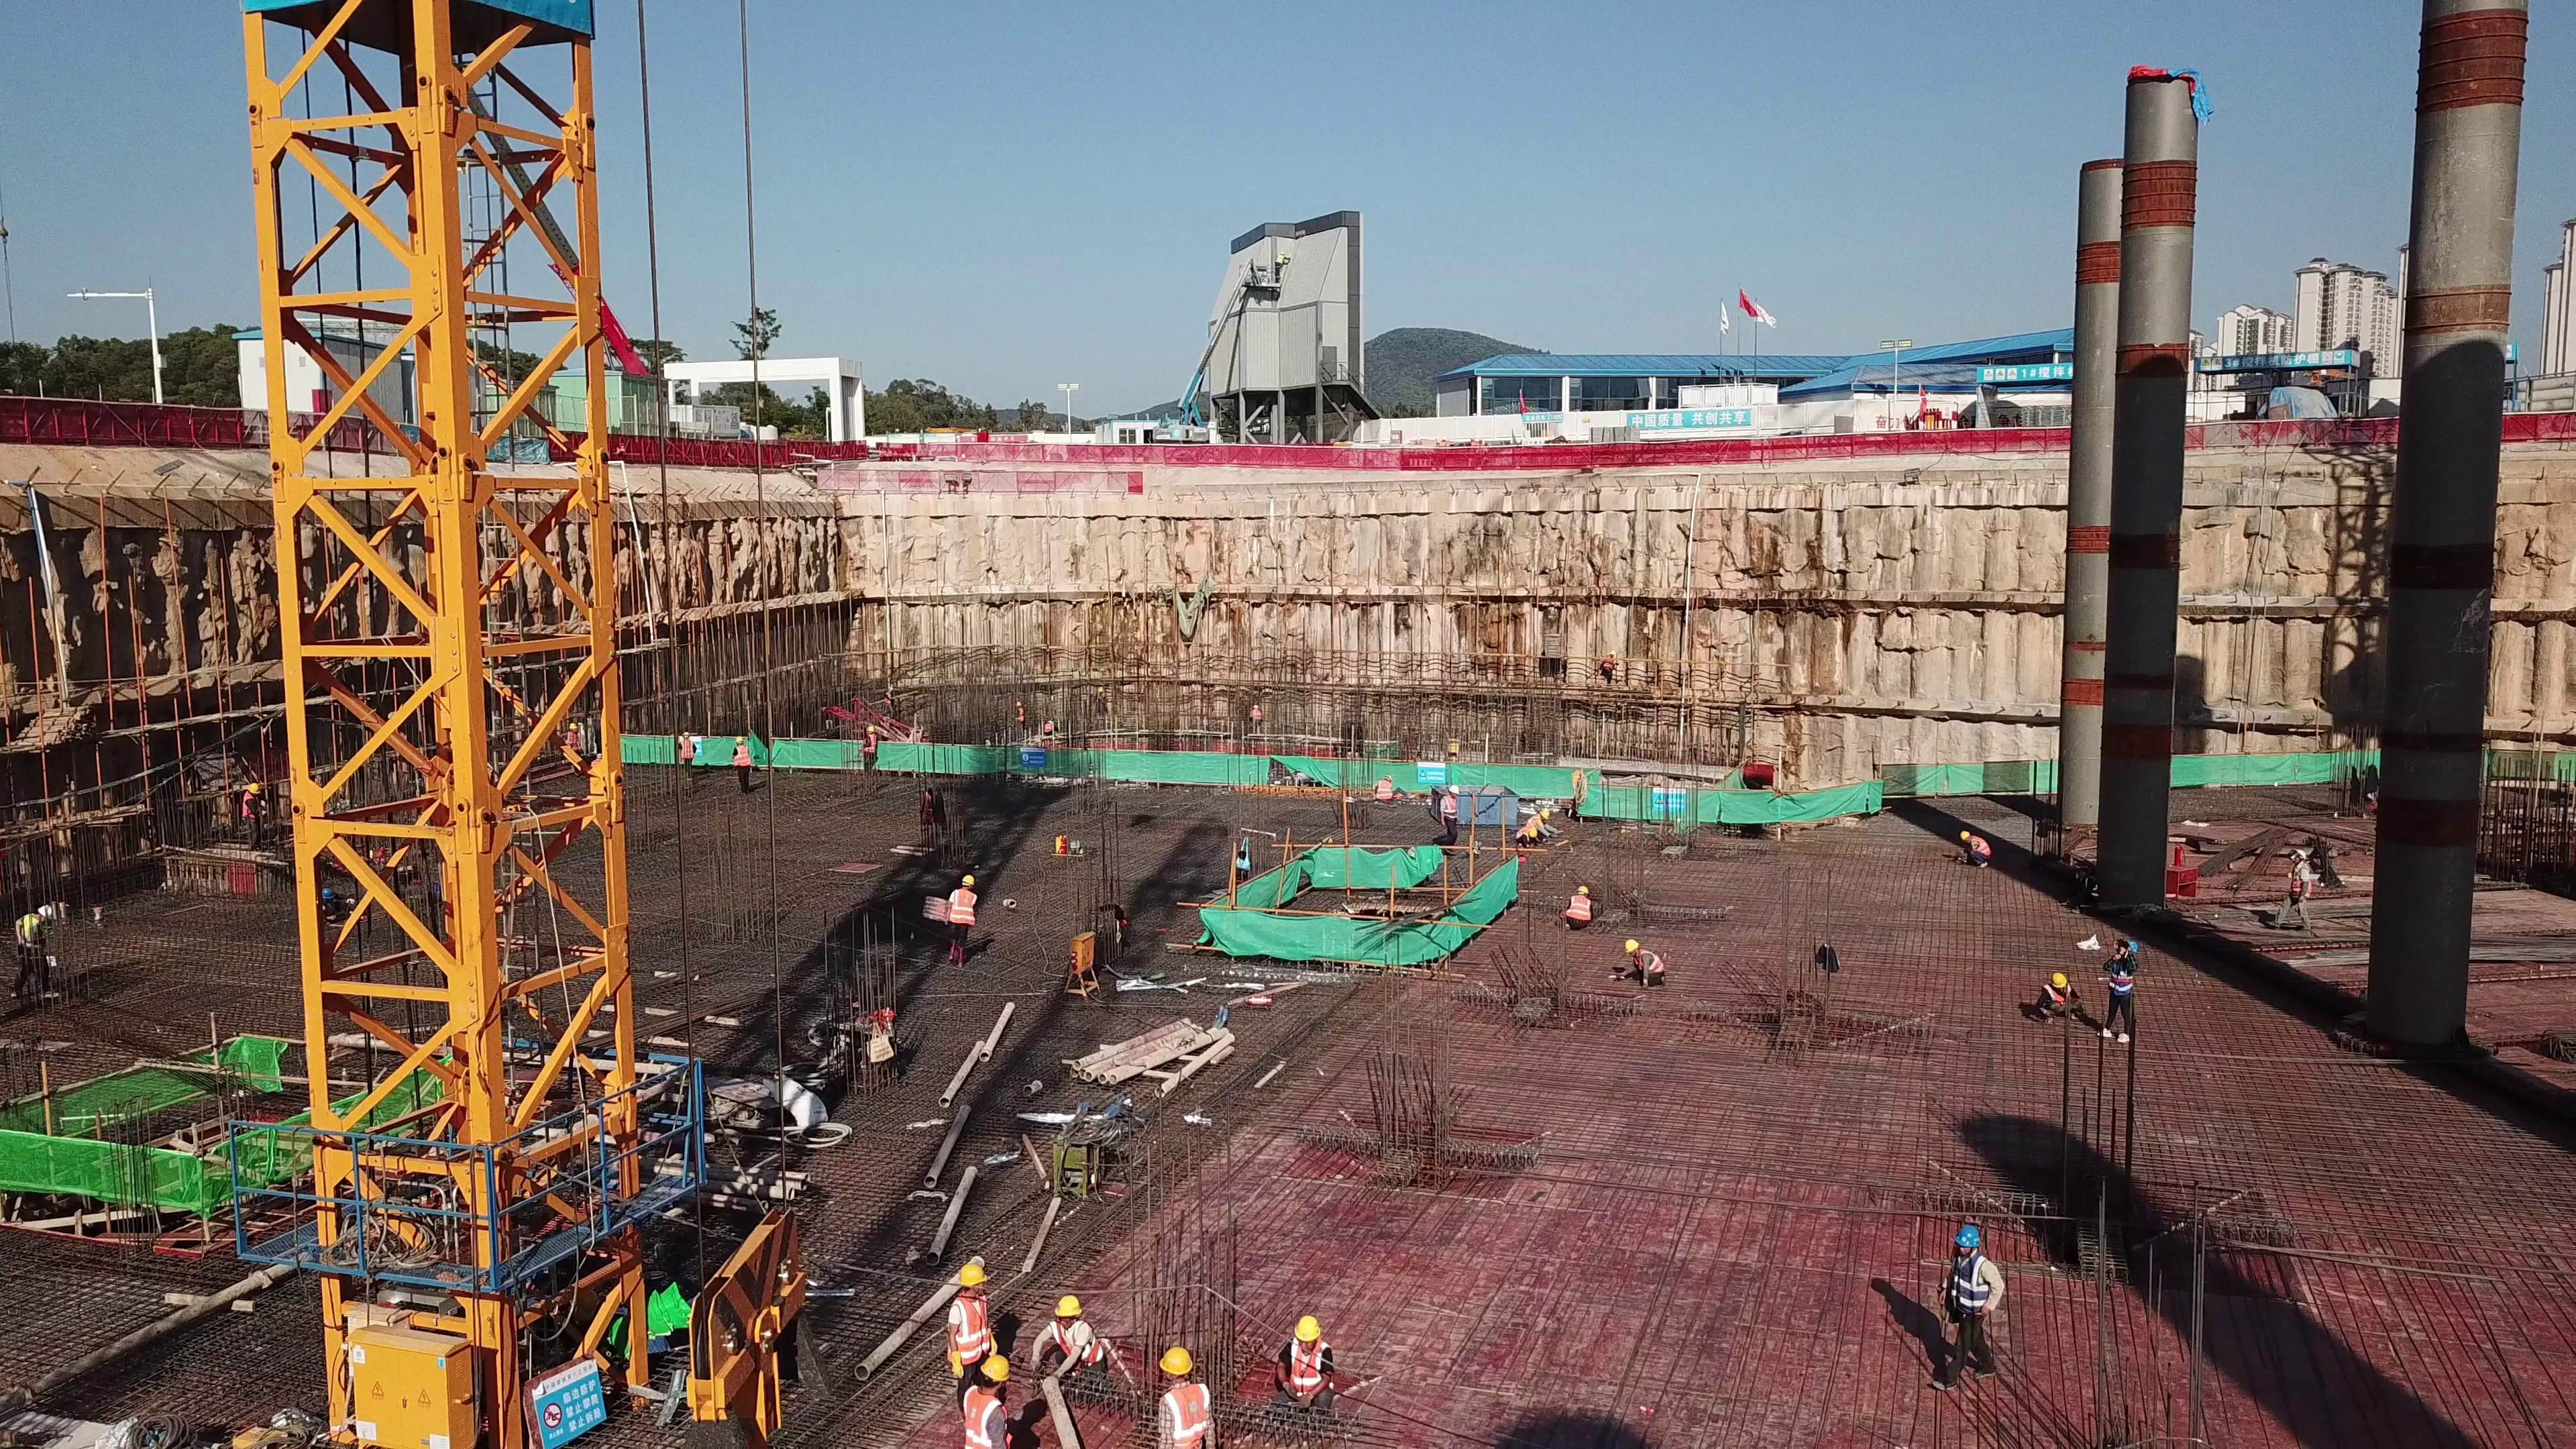brick: (1591, 424, 1644, 455)
ebox: (329, 1322, 478, 1449), (1067, 928, 1098, 1005)
fence: (24, 372, 254, 453), (1357, 437, 1603, 497)
helmet: (1154, 1347, 1195, 1380), (1049, 1287, 1081, 1321), (957, 1260, 994, 1285), (1955, 1223, 1980, 1250), (1291, 1318, 1321, 1341), (982, 1354, 1009, 1376), (2117, 938, 2142, 953), (2047, 971, 2073, 986), (1621, 937, 1641, 954), (958, 874, 977, 890), (1572, 883, 1594, 895), (321, 887, 337, 900), (1959, 826, 1969, 843), (247, 783, 262, 794), (38, 904, 54, 915), (1446, 787, 1461, 796), (568, 721, 578, 729), (735, 735, 744, 743), (864, 727, 875, 731), (682, 732, 690, 737), (1015, 700, 1022, 706)
hook: (680, 1218, 818, 1449)
hopper: (1430, 785, 1520, 822)
person: (1918, 1218, 2012, 1381), (1151, 1342, 1226, 1449), (1274, 1310, 1350, 1415), (1028, 1289, 1107, 1371), (2096, 935, 2150, 1049), (963, 1350, 1014, 1449), (13, 898, 62, 1005), (937, 1260, 996, 1344), (2273, 848, 2320, 945), (1951, 816, 2006, 891), (941, 869, 983, 969), (2027, 969, 2090, 1032), (1609, 935, 1672, 987), (1552, 879, 1607, 925), (305, 882, 351, 937), (1434, 783, 1470, 852), (235, 781, 264, 849), (855, 727, 883, 784), (732, 735, 759, 797), (675, 729, 702, 781), (557, 717, 583, 767), (1366, 773, 1403, 806), (1244, 702, 1267, 734), (1009, 700, 1027, 736), (1036, 717, 1065, 739), (1525, 809, 1557, 824), (1513, 827, 1543, 845)
slogan: (2195, 350, 2358, 376), (1623, 404, 1756, 433), (1970, 358, 2078, 382)
vest: (1949, 1253, 1998, 1319), (1159, 1385, 1212, 1446), (1052, 1322, 1104, 1374), (949, 1295, 989, 1361), (967, 1392, 1010, 1449), (1287, 1345, 1330, 1391), (951, 890, 979, 931), (2288, 866, 2316, 905), (2113, 959, 2137, 998), (1562, 895, 1593, 925), (1632, 951, 1666, 977), (2041, 988, 2073, 1010), (1968, 834, 1990, 861), (19, 915, 38, 943), (1440, 798, 1461, 820), (566, 731, 582, 751), (241, 796, 258, 813), (863, 735, 879, 756), (1374, 782, 1395, 797), (681, 740, 695, 758), (735, 748, 751, 767), (1016, 708, 1025, 720), (1042, 724, 1053, 734)
